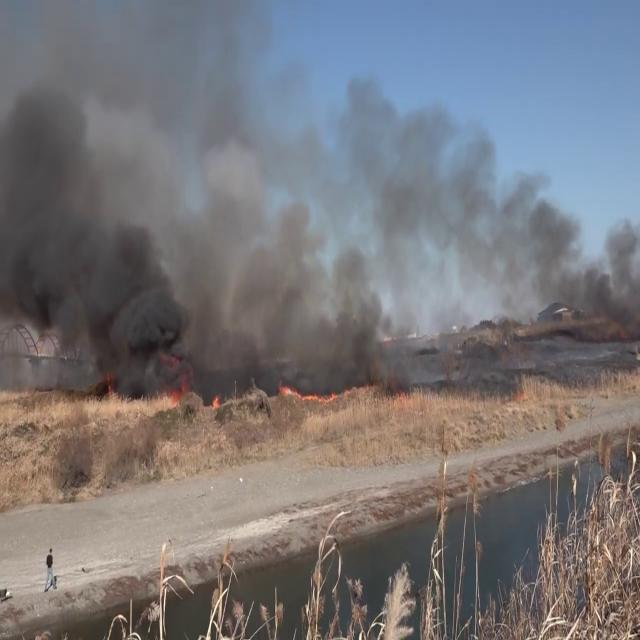Smoke: (209, 73, 640, 374), (0, 0, 314, 386)
